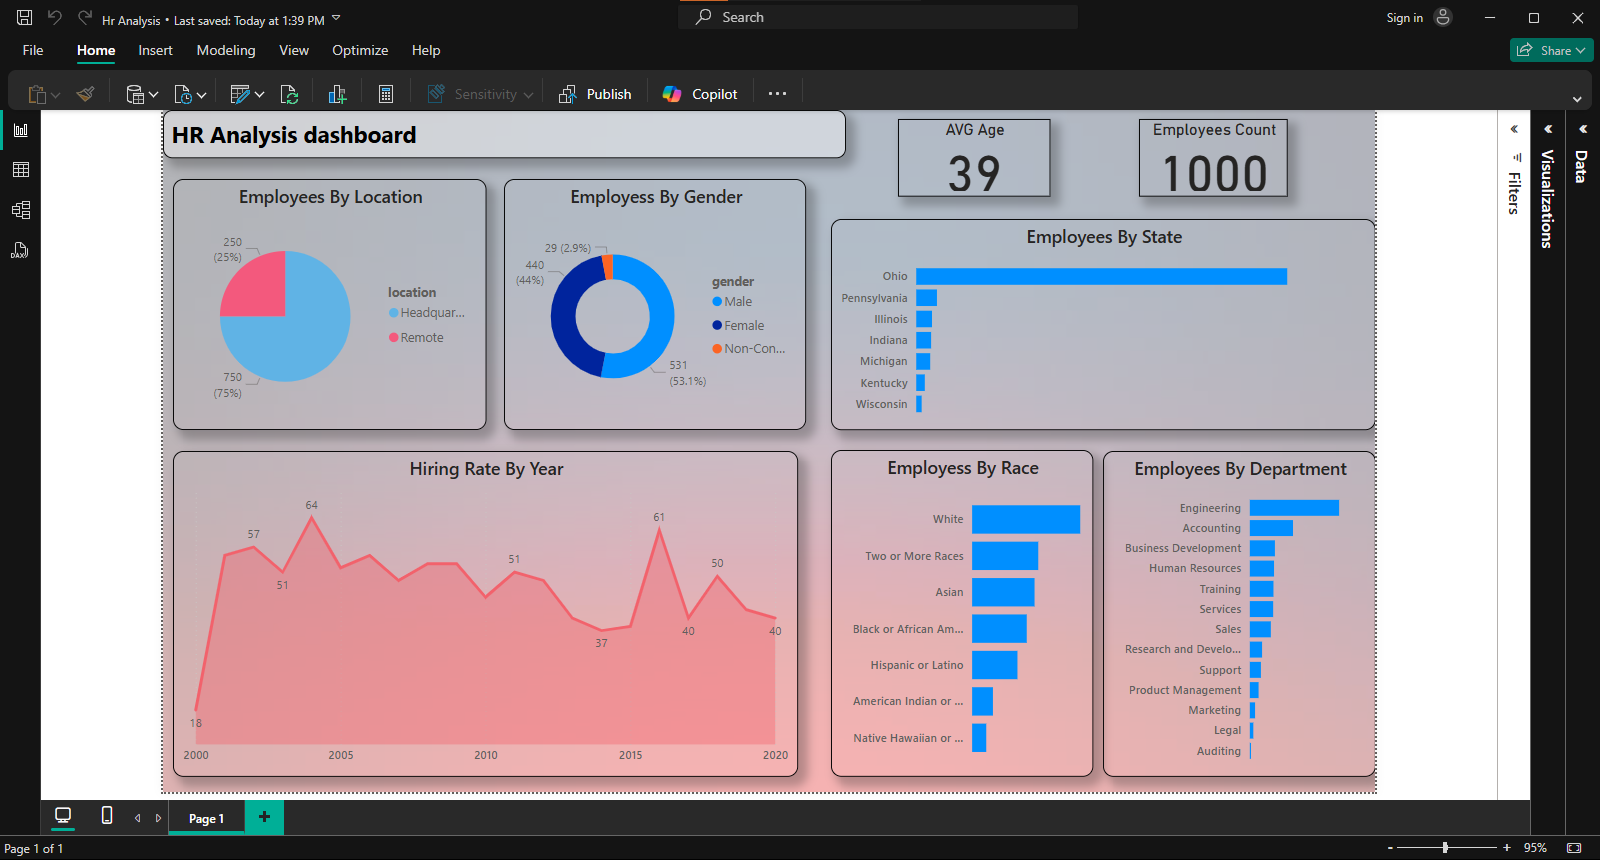

Layout of this report page (visuals, bound fields, positions):
{"tool":"powerbi","page":{"name":"Page 1","canvas":[1280,720],"ordinal":0},"visuals":[{"type":"card","title":"Employees Count","fields":{"Values":["Count(HR.id)"]},"box":[1030.2,9.3,157.4,82.2],"z":0},{"type":"card","title":"AVG Age","fields":{"Values":["Avg(HR.Age)"]},"box":[775.6,9.3,160.9,82.2],"z":1000},{"type":"pieChart","title":"Employees By Location","fields":{"Category":["HR.location"],"Y":["CountNonNull(HR.id)"]},"box":[10.4,72.9,331.1,265.1],"z":2000},{"type":"areaChart","title":"Hiring Rate By Year","fields":{"Category":["HR.hire_date.Variation.Date Hierarchy.Year"],"Y":["CountNonNull(HR.id)"]},"box":[10.4,360,659.8,343.8],"z":3000},{"type":"donutChart","title":"Employess By Gender","fields":{"Y":["Count(HR.id)"],"Category":["HR.gender"]},"box":[360,72.9,319.5,265.1],"z":4000},{"type":"barChart","title":"Employees By State","fields":{"Y":["Count(HR.id)"],"Category":["HR.location_state"]},"box":[705,114.6,575.3,223.4],"z":5000},{"type":"barChart","title":"Employees By Department","fields":{"Y":["Count(HR.id)"],"Category":["HR.department"]},"box":[992,360,288.2,343.8],"z":6000},{"type":"barChart","title":"Employess By Race","fields":{"Y":["Count(HR.id)"],"Category":["HR.race"]},"box":[705,358.8,276.7,345],"z":7000},{"type":"textbox","box":[0,0,720.8,50.6],"z":8000}]}

Visuals, with their boxes on the page's 1280x720 design canvas (x1, y1, x2, y2). These are canvas units, not pixel positions in the 1600x860 screenshot, which may show the page scaled, cropped or inside an application window:
"Employees Count" card: box(1030, 9, 1188, 92)
"AVG Age" card: box(776, 9, 936, 92)
"Employees By Location" pieChart: box(10, 73, 342, 338)
"Hiring Rate By Year" areaChart: box(10, 360, 670, 704)
"Employess By Gender" donutChart: box(360, 73, 680, 338)
"Employees By State" barChart: box(705, 115, 1280, 338)
"Employees By Department" barChart: box(992, 360, 1280, 704)
"Employess By Race" barChart: box(705, 359, 982, 704)
textbox: box(0, 0, 721, 51)
